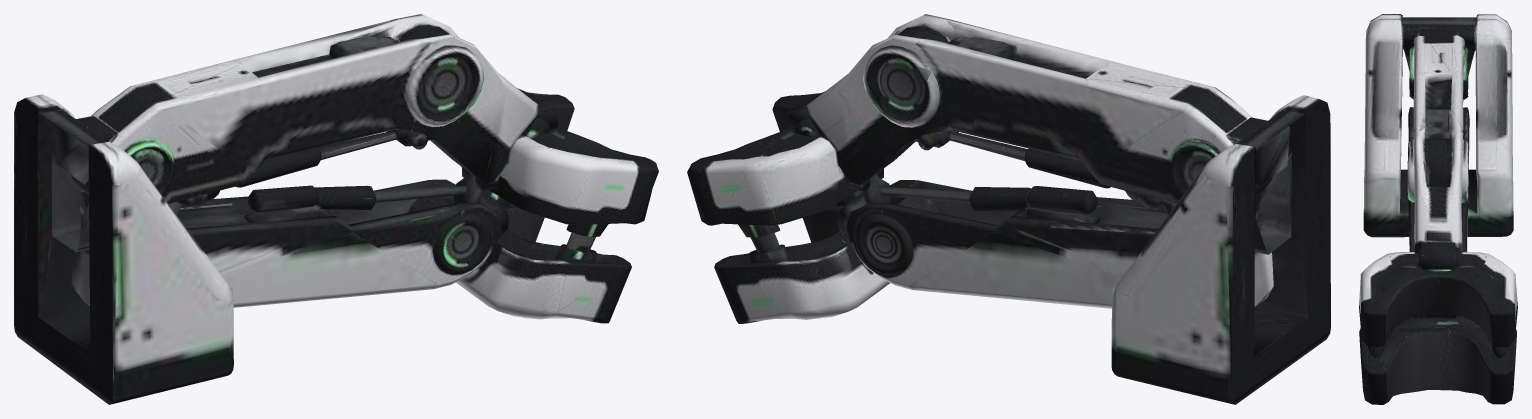
Rendered from mule_arm.glb.
3 views of the same model, side by side, from view 1: azimuth 30°, elevation 25°; view 2: azimuth 150°, elevation 25°; view 3: azimuth 270°, elevation 25° (orthographic). The views are drawn at different scales.
Bounding box in the file's own units: 1 × 0.5214 × 0.3407.
Materials: 1 (1 with a texture image).
